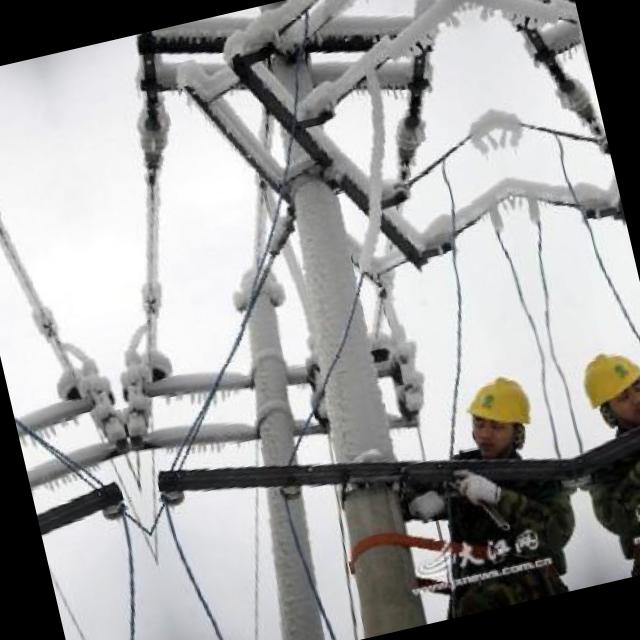helmet: (445, 361, 541, 464), (571, 332, 640, 435)
